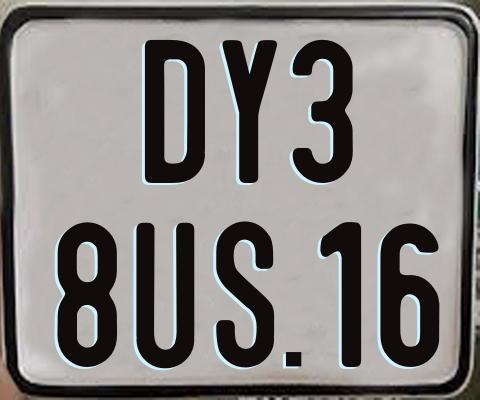1: (317, 221, 360, 367)
3: (292, 39, 353, 186)
6: (380, 220, 442, 365)
8: (56, 220, 118, 370)
D: (142, 39, 205, 188)
S: (216, 218, 274, 370)
U: (133, 220, 192, 365)
Y: (221, 37, 276, 183)
